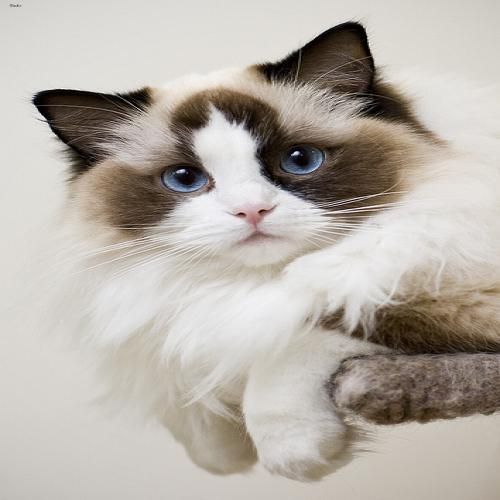ragdoll: (32, 29, 429, 298)
